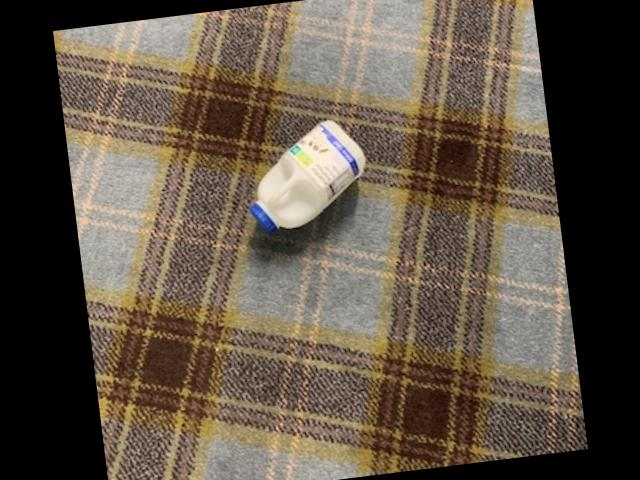plastic: (249, 122, 363, 233)
